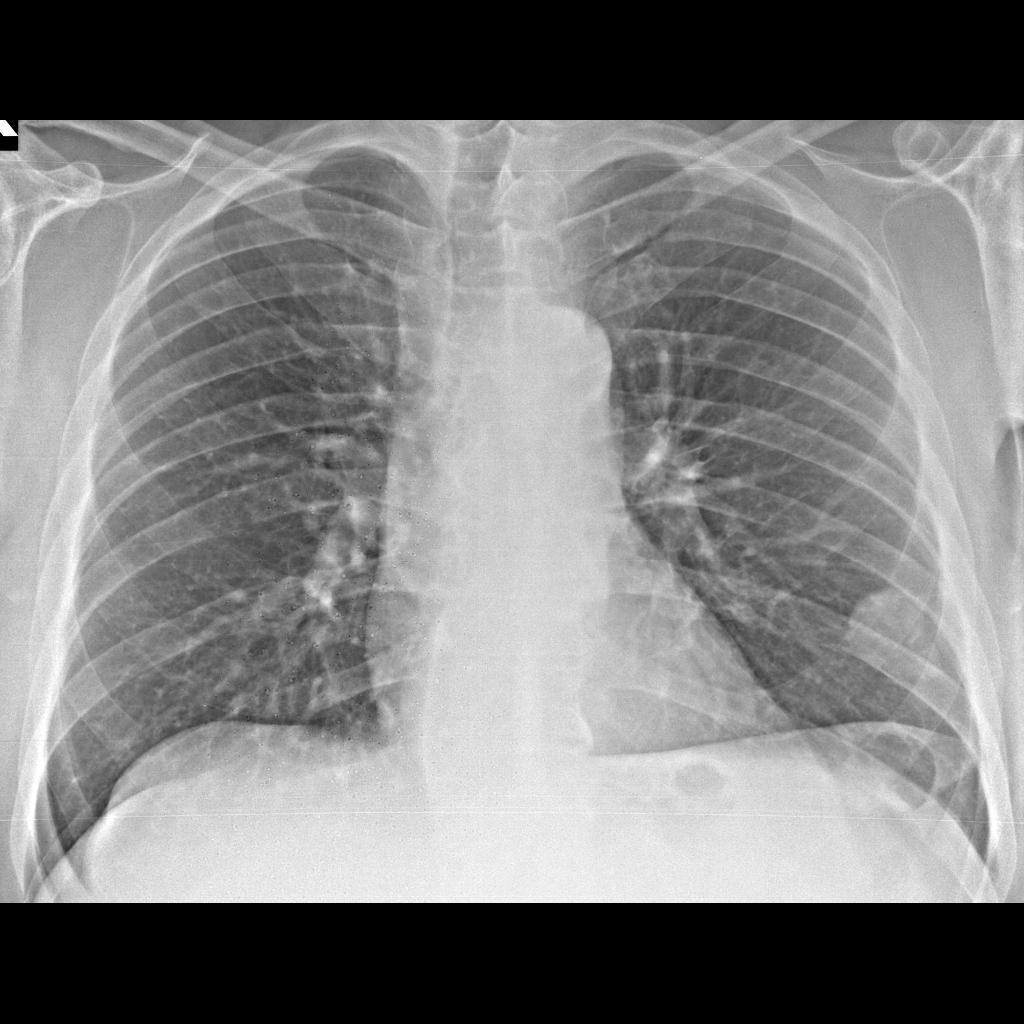Nodule: (843, 582, 930, 683)
